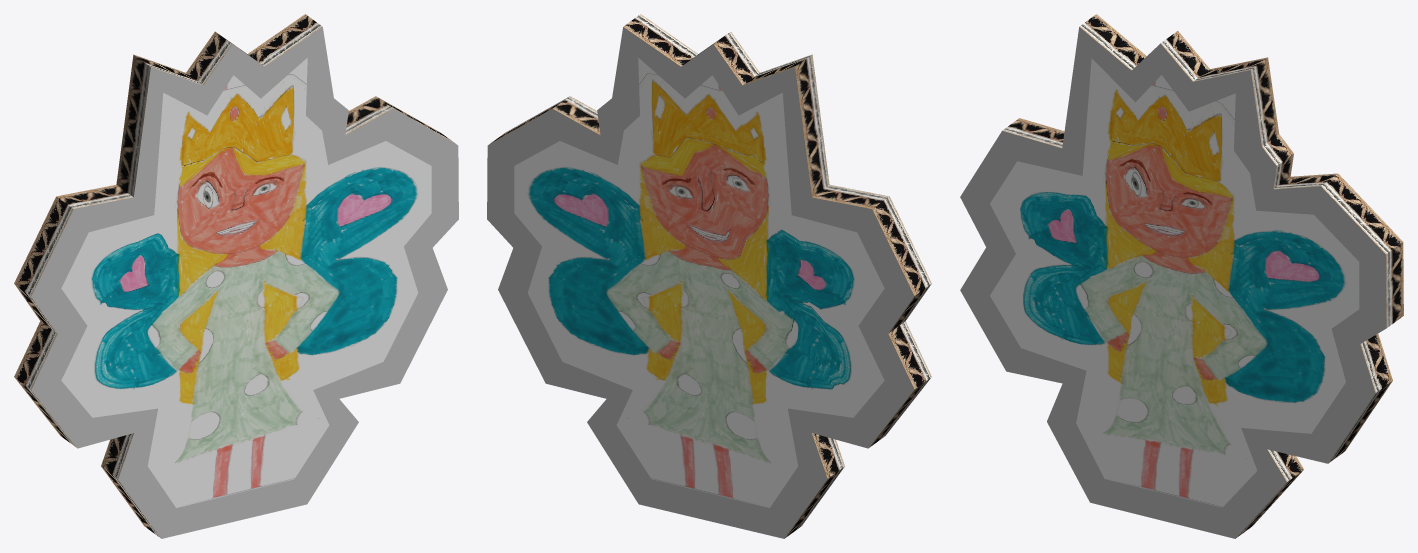
File: Haltijatar.fbx
The picture shows the model from 3 angles, left to right: view 1: azimuth 30°, elevation 25°; view 2: azimuth 150°, elevation 25°; view 3: azimuth 330°, elevation 25°; orthographic projection.
Parts seen in each view (by area): view 1: Haltijatar; view 2: Haltijatar; view 3: Haltijatar.
Part boxes in pixels (x1,y1,x2,y2): Haltijatar: (14,14,458,538); Haltijatar: (487,14,931,538); Haltijatar: (960,14,1403,538).
Bounding box in the file's own units: 231 × 247 × 16.26.
